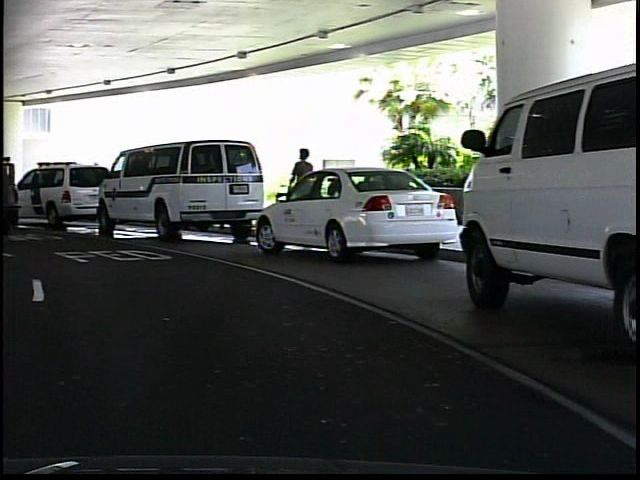person: (283, 144, 316, 230)
